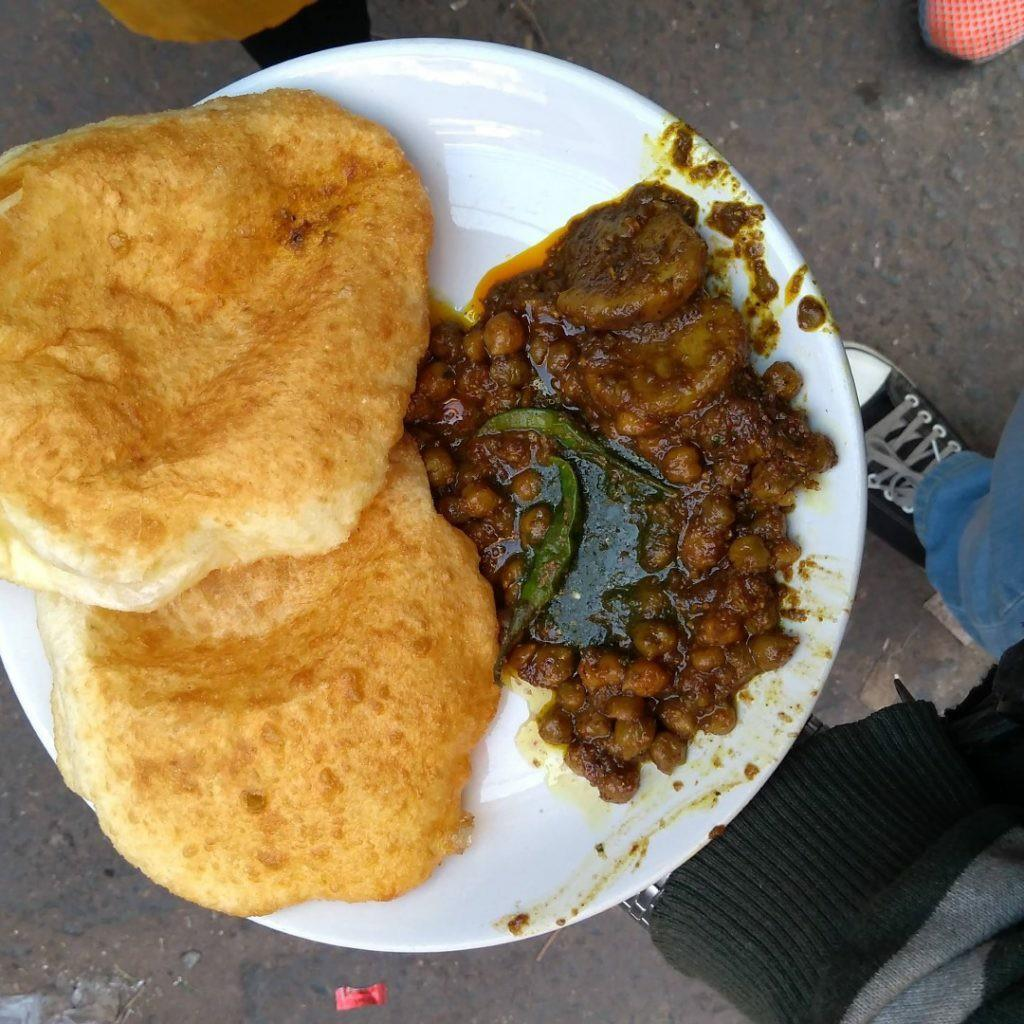Bhatura: (0, 86, 492, 917)
Chole: (443, 290, 823, 788)
